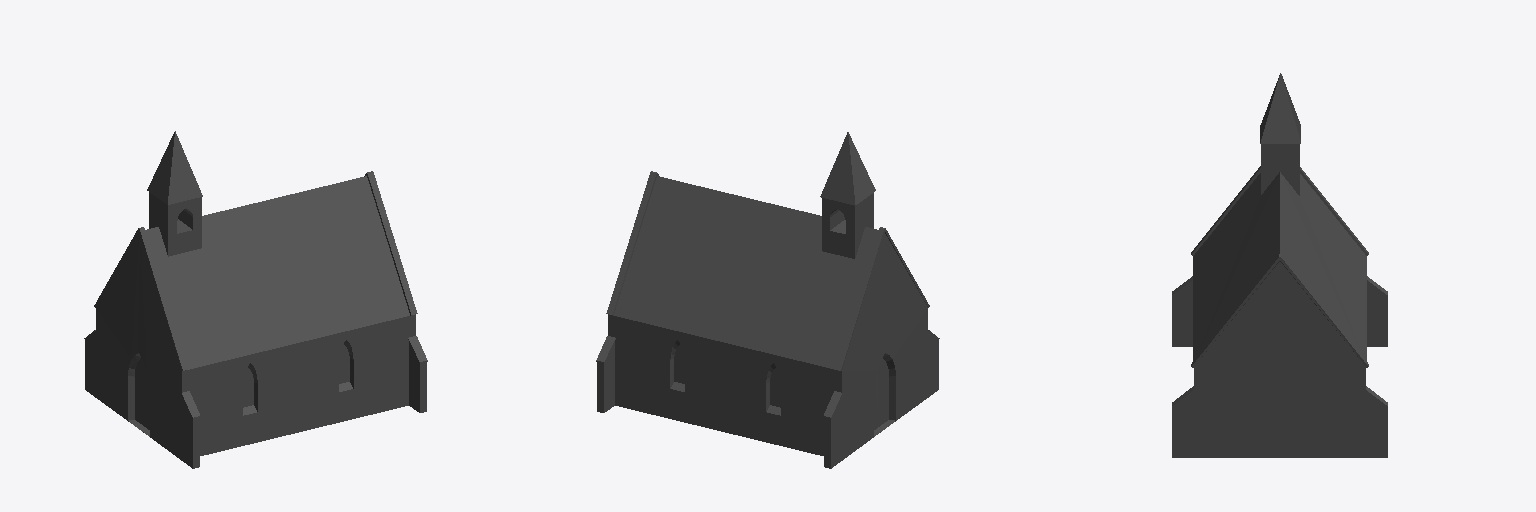
Rendered from chapel_noT.obj.
3 views of the same model, side by side, from view 1: azimuth 30°, elevation 25°; view 2: azimuth 150°, elevation 25°; view 3: azimuth 270°, elevation 25° (orthographic).
Visible parts, largest first — view 1: Mesh_chapel; view 2: Mesh_chapel; view 3: Mesh_chapel.
Part boxes in pixels (x1,y1,x2,y2): Mesh_chapel: (84, 131, 427, 468); Mesh_chapel: (596, 132, 939, 468); Mesh_chapel: (1172, 73, 1387, 457).
Bounding box in the file's own units: 8.3 × 9.76 × 6.62.